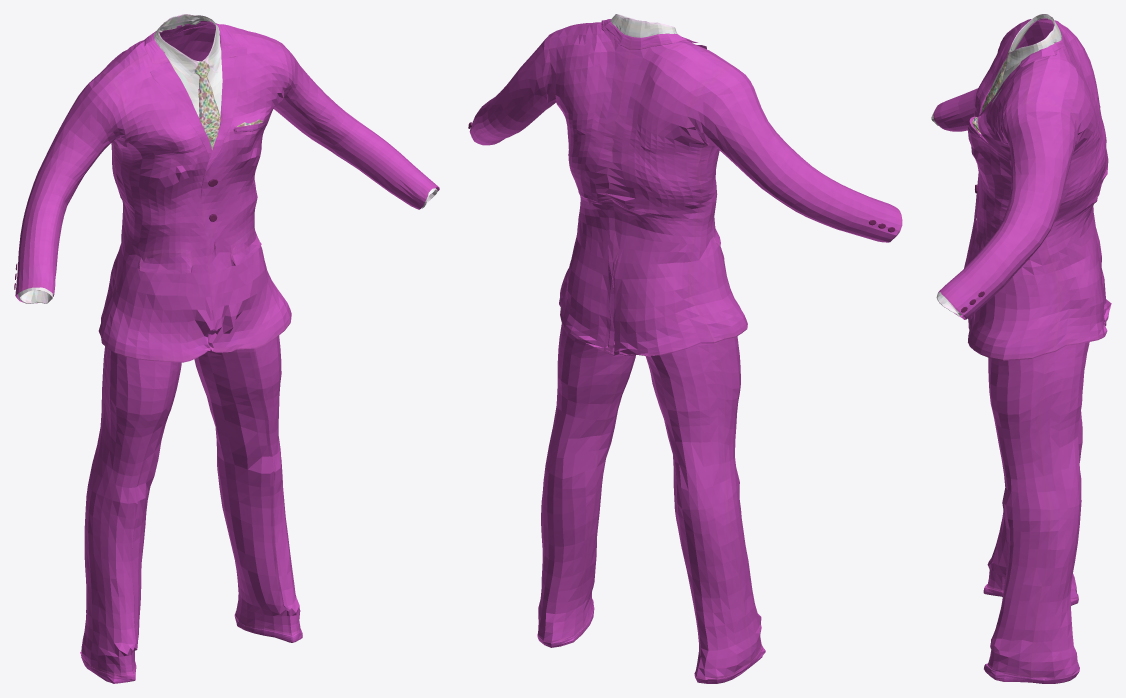
File: mhw_toigo_female_suit_2.glb
3 views of the same model, side by side, from view 1: azimuth 30°, elevation 25°; view 2: azimuth 150°, elevation 25°; view 3: azimuth 270°, elevation 25° (orthographic). The views are drawn at different scales.
Parts seen in each view (by area): view 1: mhw_toigo_female_suit_2; view 2: mhw_toigo_female_suit_2; view 3: mhw_toigo_female_suit_2.
Part boxes in pixels (x1=…): mhw_toigo_female_suit_2: x1=14, y1=14, x2=439, y2=683; mhw_toigo_female_suit_2: x1=468, y1=14, x2=902, y2=683; mhw_toigo_female_suit_2: x1=931, y1=14, x2=1111, y2=683.
Bounding box in the file's own units: 1.12 × 1.59 × 0.421.
Materials: 1 (1 with a texture image).
